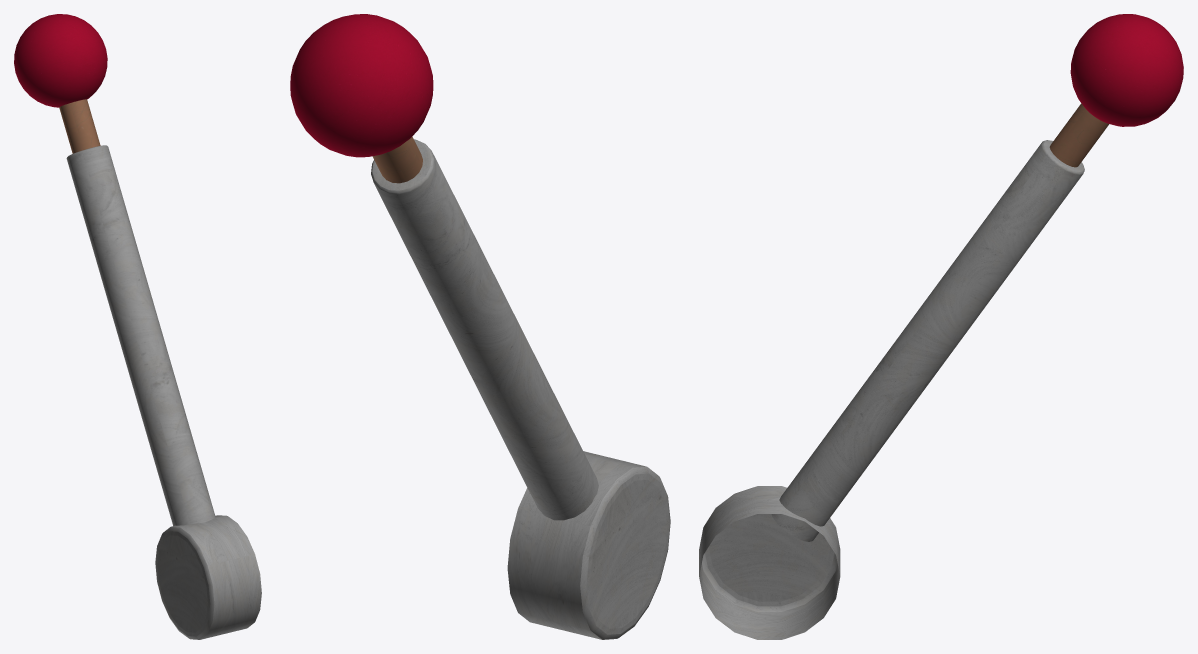
File: SlotMachine-Lever.glb
3 renders of one model, left to right at view 1: azimuth 30°, elevation 25°; view 2: azimuth 150°, elevation 25°; view 3: azimuth 270°, elevation 25°, orthographic. The views are drawn at different scales.
Visible parts, largest first — view 1: SlotMachine-Lever; view 2: SlotMachine-Lever; view 3: SlotMachine-Lever.
Boxes of the visible parts, x1,y1,x2,y2 form: SlotMachine-Lever: [14, 14, 261, 639]; SlotMachine-Lever: [290, 14, 670, 639]; SlotMachine-Lever: [699, 14, 1183, 639].
Bounding box in the file's own units: 0.3385 × 2 × 1.45.
Materials: 3 (3 with a texture image).
